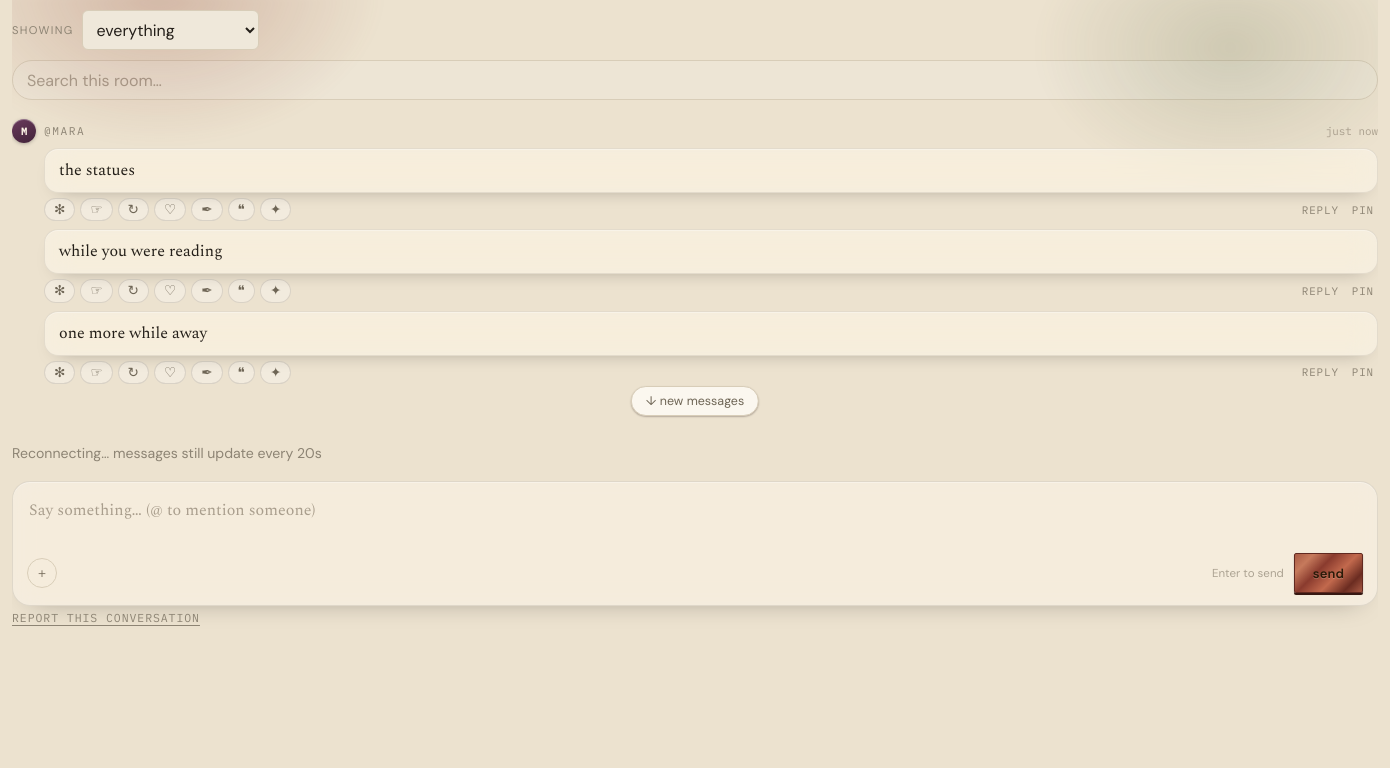
Test case: CollectionChat — one room per collection [#6] › shows a jump-to-latest pill for a message that arrives while scrolled up in history
Click the button "↓ new messages". click: (695, 401)
box: [631,386,759,416]
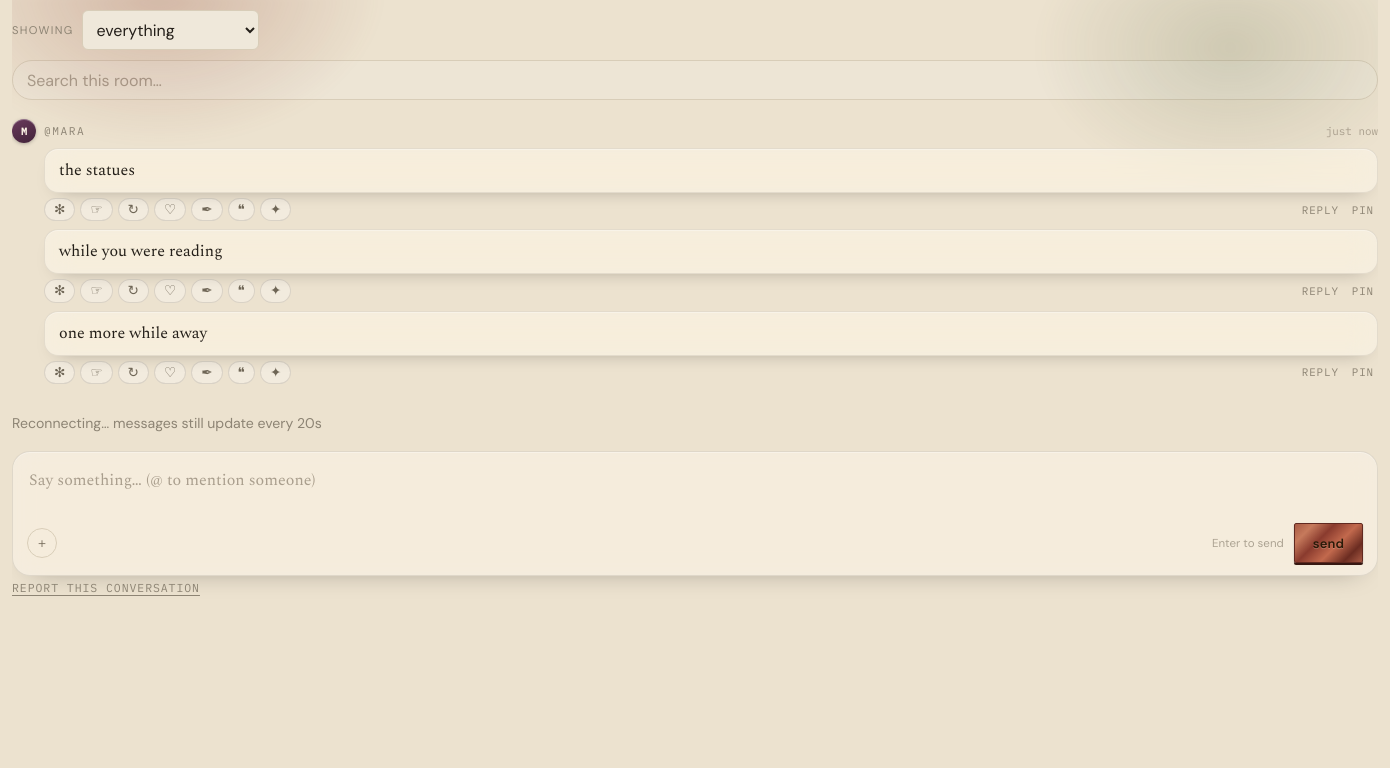
Expected: the button "new messages" is gone
